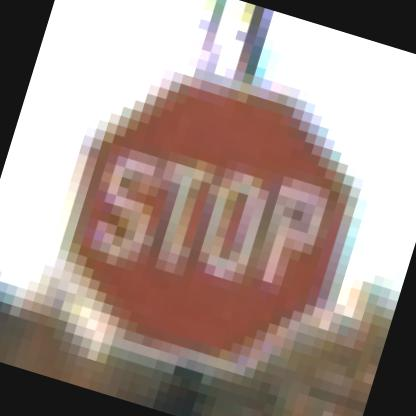stop: (11, 23, 380, 394)
